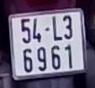1: (64, 43, 75, 70)
3: (62, 14, 74, 41)
4: (32, 17, 44, 44)
5: (19, 17, 32, 45)
6: (21, 47, 35, 73), (50, 45, 63, 72)
9: (36, 45, 49, 72)
L: (51, 15, 64, 42)
